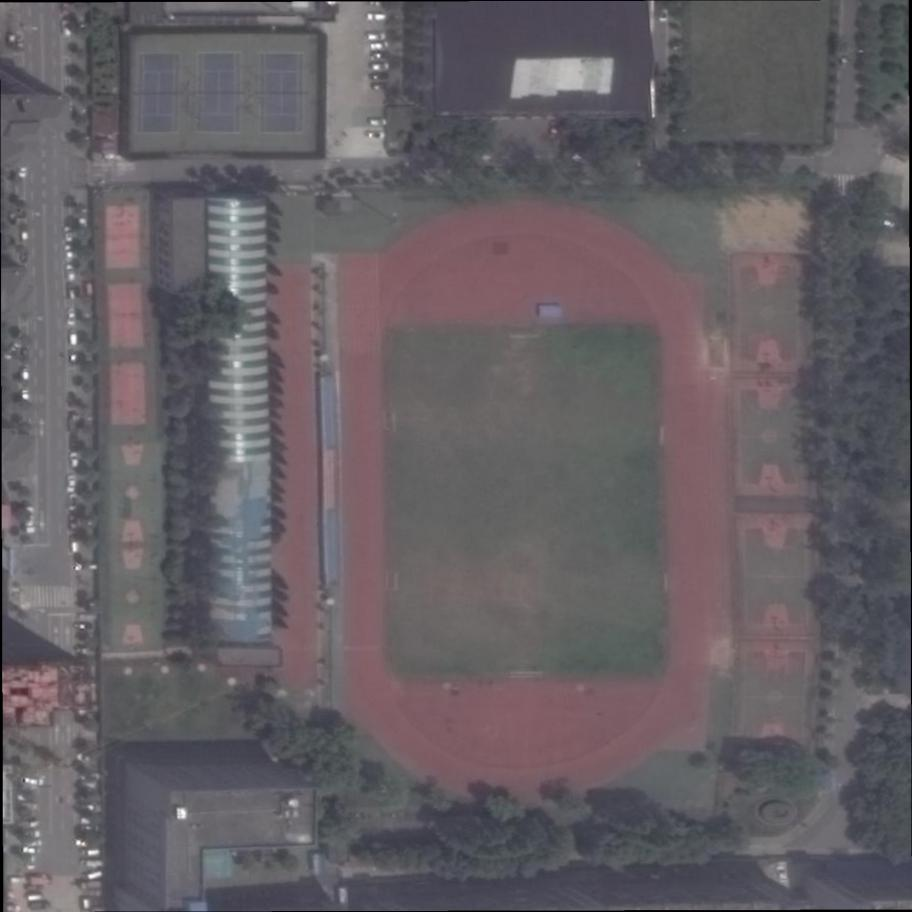small-vehicle: (74, 751, 96, 765), (21, 777, 46, 787), (68, 451, 81, 470), (370, 61, 389, 73), (86, 869, 105, 881), (370, 40, 388, 52), (22, 846, 43, 856), (370, 50, 389, 61), (72, 839, 98, 847), (370, 80, 388, 91), (65, 475, 76, 493), (66, 265, 77, 283), (82, 859, 106, 867), (66, 330, 77, 347), (80, 848, 103, 856), (70, 537, 80, 555), (367, 13, 387, 22), (68, 513, 78, 530), (370, 72, 388, 81), (64, 245, 73, 263), (365, 33, 385, 41), (369, 131, 386, 140), (368, 118, 387, 126), (63, 226, 72, 242), (22, 839, 42, 846), (22, 367, 30, 383), (67, 310, 75, 326), (22, 388, 30, 403), (24, 830, 43, 836), (70, 495, 77, 511)
